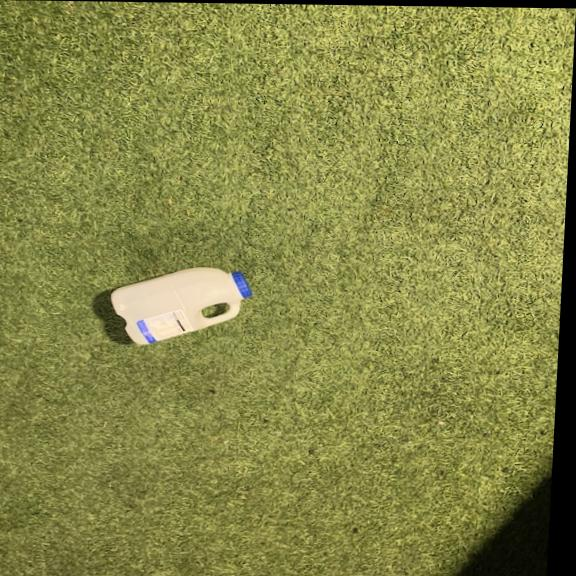Plastik: (108, 264, 252, 348)
